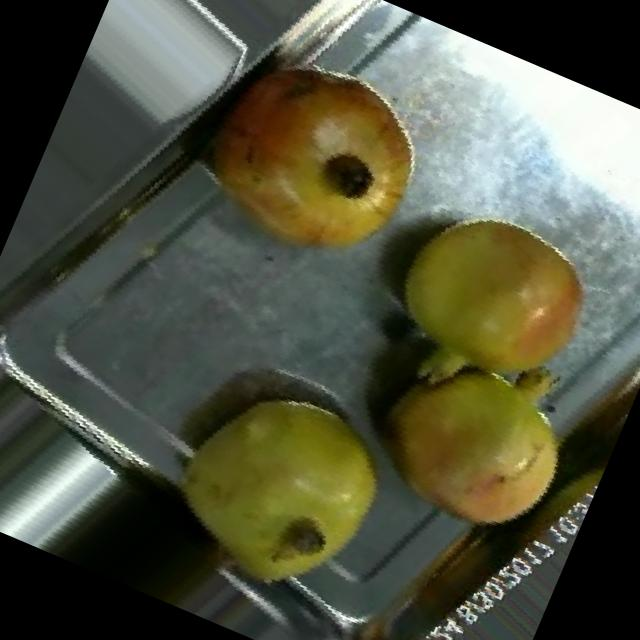fruit: (109, 323, 448, 640), (151, 0, 480, 316), (323, 267, 631, 586), (343, 152, 640, 454)
